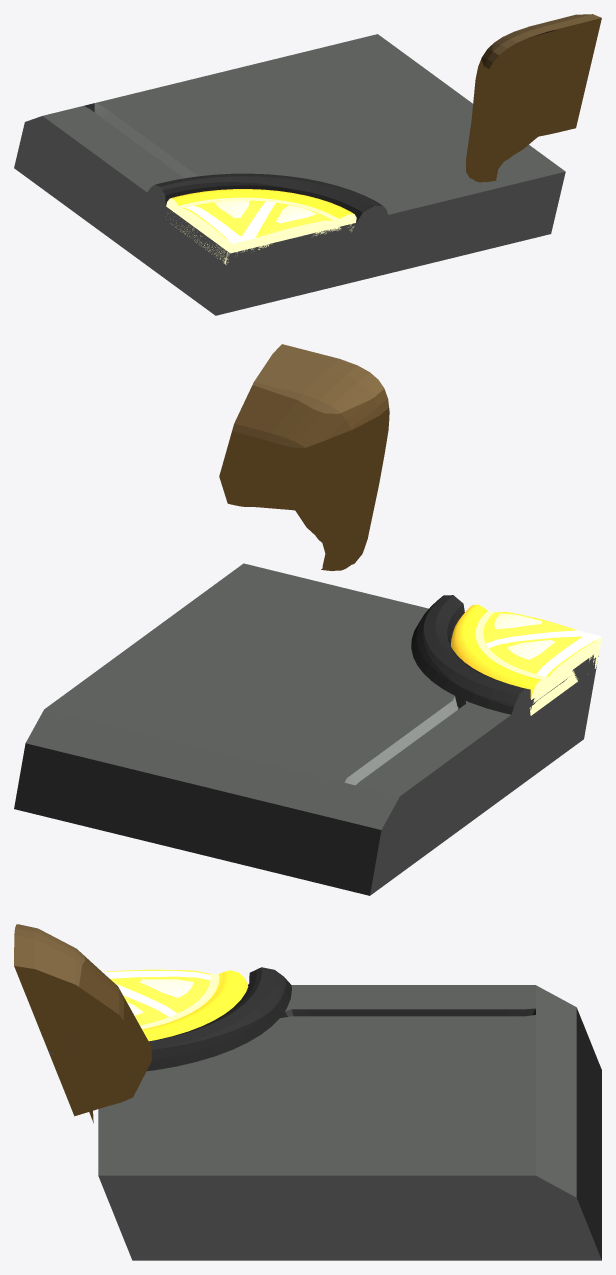
File: pineapple_155.glb
3 renders of one model, top to bottom at view 1: azimuth 30°, elevation 25°; view 2: azimuth 150°, elevation 25°; view 3: azimuth 270°, elevation 25°, orthographic. The views are drawn at different scales.
Visible parts, largest first — view 1: pineapple_155; view 2: pineapple_155; view 3: pineapple_155.
Boxes of the visible parts, x1=… form: pineapple_155: x1=14, y1=14, x2=601, y2=315; pineapple_155: x1=14, y1=344, x2=601, y2=895; pineapple_155: x1=14, y1=924, x2=601, y2=1260.
Size of the model in its own units: 24 by 17.32 by 31.3.
